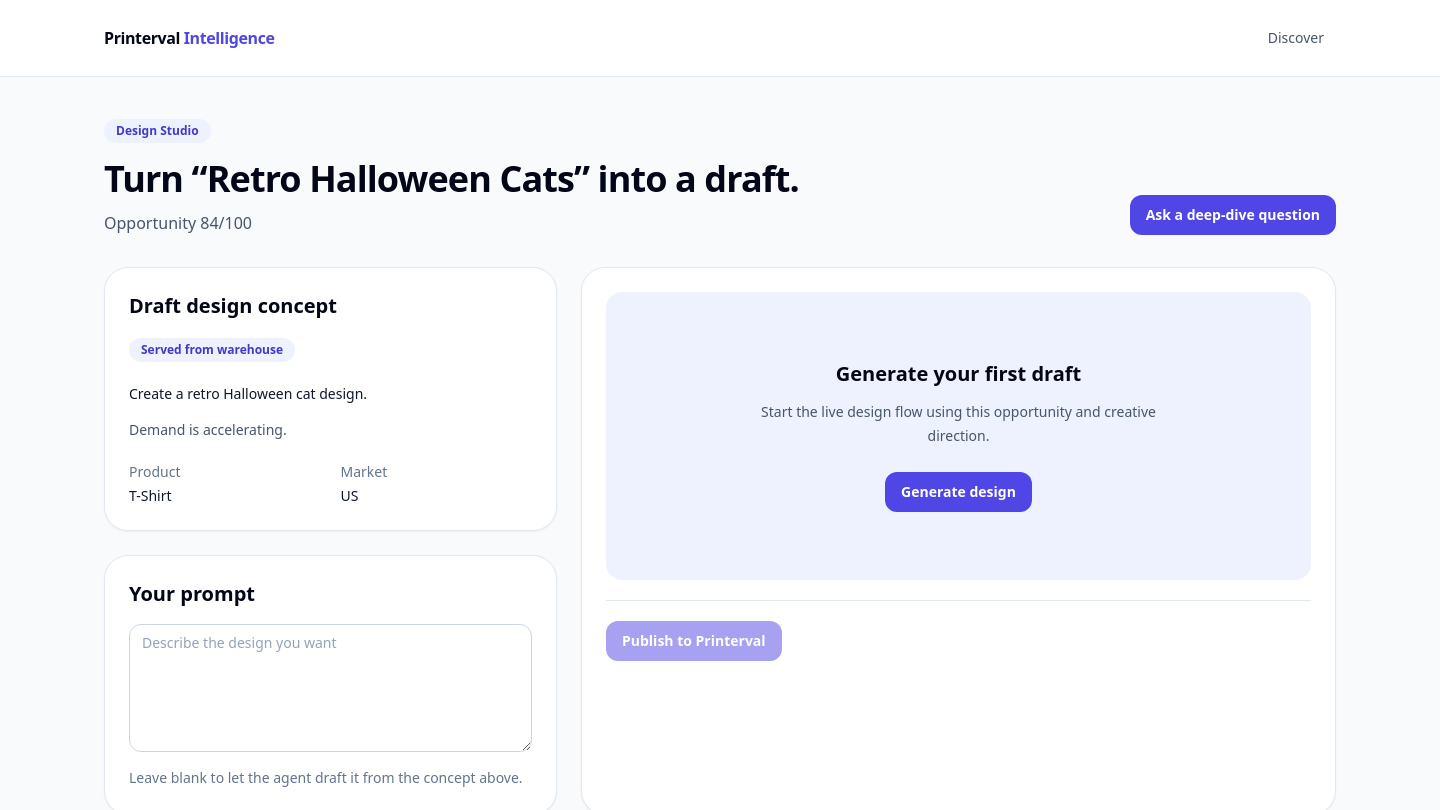
Test case: DesignStudioScreen › shows the generation loading bar while a run is in flight before the image arrives
The image size is (1440, 810).
Click the button "Generate design". click: (958, 492)
box: [885,472,1032,512]
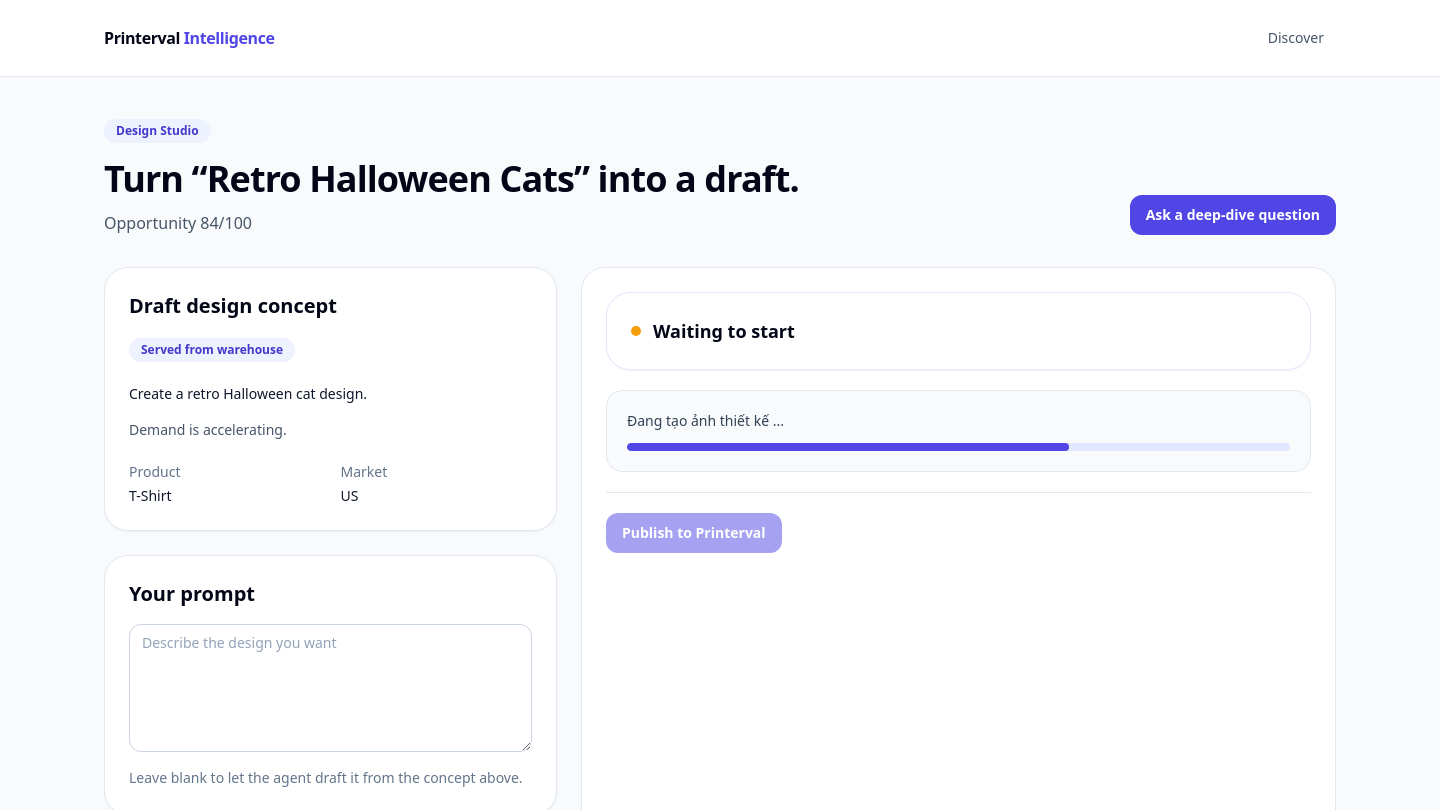
Expected: the text "Đang tạo ảnh thiết kế ..." is shown, [627,411,784,430]
